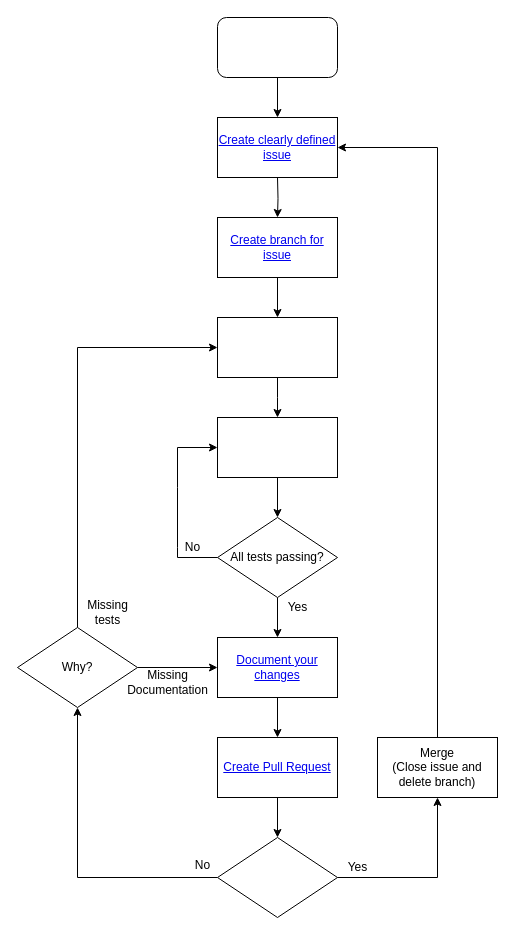
Image size: 515x935. Some labels were removed from this diagram. The shapes that lost their labels are listed below. From the top down, each one's box as (x1, y1, x2, y2) in pixels, then its label:
(216, 16, 338, 78): Create Project
(216, 316, 338, 378): Create or update tests for expected behavior
(216, 416, 338, 478): Write code to pass all tests
(216, 836, 338, 918): Approved?
